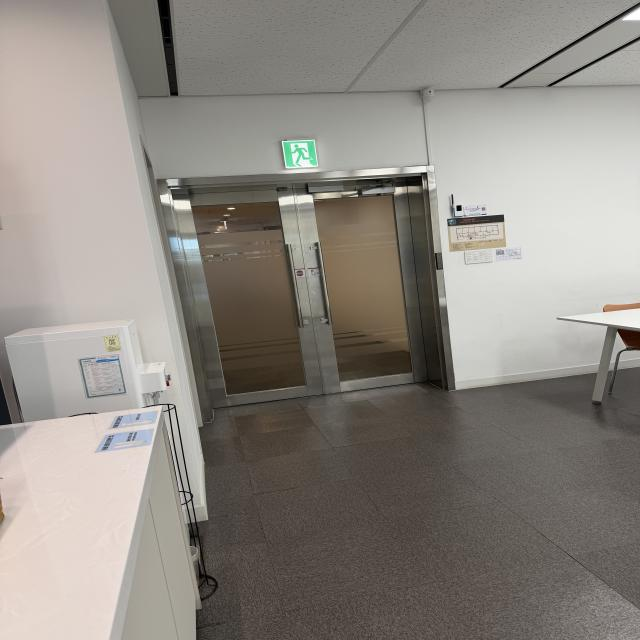rear_door: (186, 178, 427, 395)
